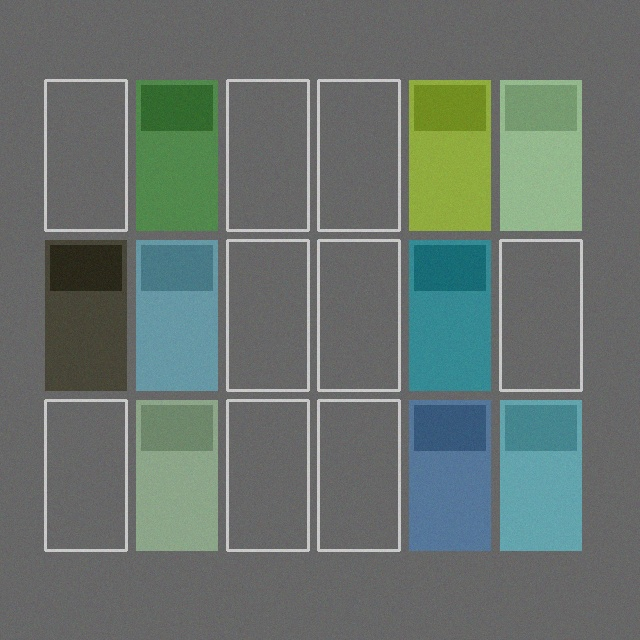space-empty: (45, 80, 126, 230), (227, 80, 308, 230), (318, 80, 399, 230), (227, 240, 308, 390), (318, 240, 399, 390), (500, 240, 581, 390), (45, 400, 126, 550), (227, 400, 308, 550), (318, 400, 399, 550)
space-occupied: (136, 80, 217, 230), (409, 80, 490, 230), (500, 80, 581, 230), (45, 240, 126, 390), (136, 240, 217, 390), (409, 240, 490, 390), (136, 400, 217, 550), (409, 400, 490, 550), (500, 400, 581, 550)
